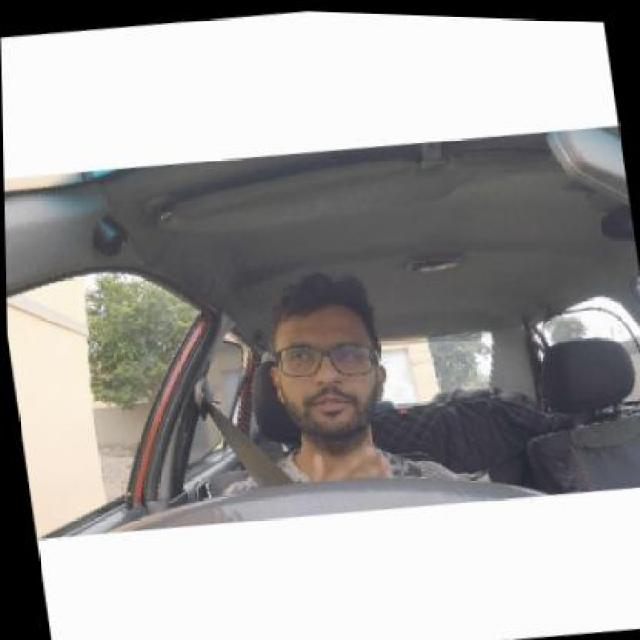person: (264, 264, 398, 453)
